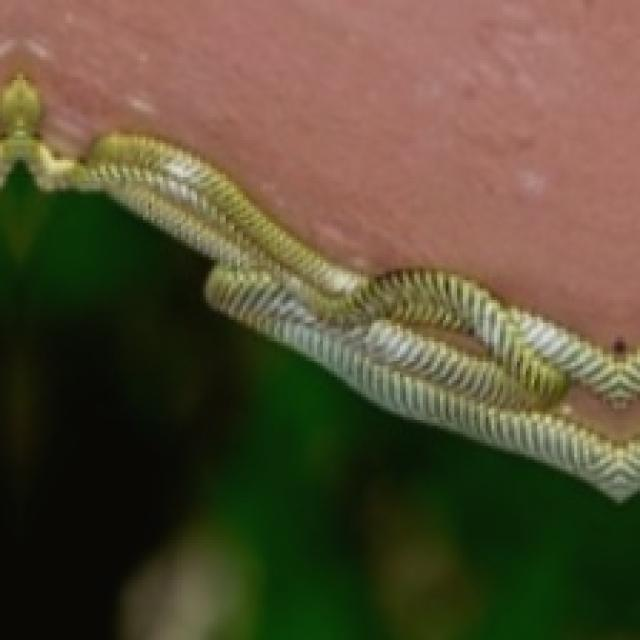paradise tree snake: (0, 77, 637, 500)
